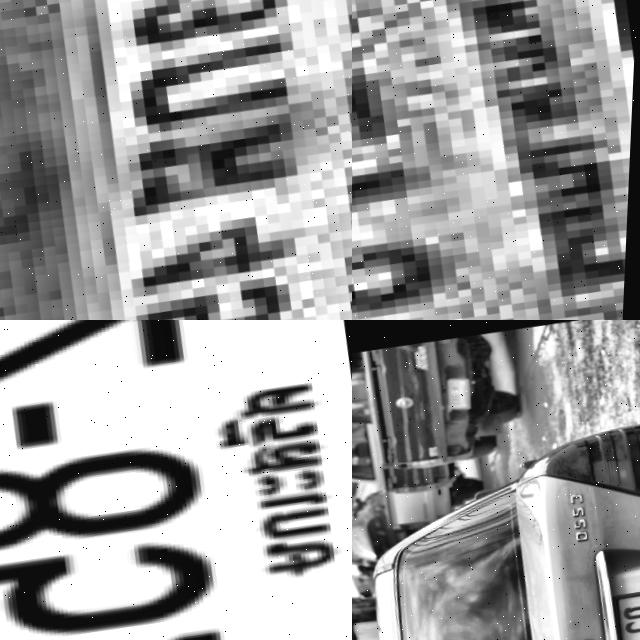license-plate: (0, 0, 352, 320), (0, 320, 352, 640), (352, 0, 640, 320)
